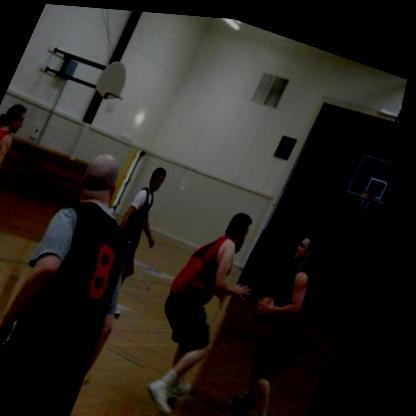basketball: (258, 287, 293, 323)
rim: (110, 90, 127, 101), (367, 183, 383, 193)
